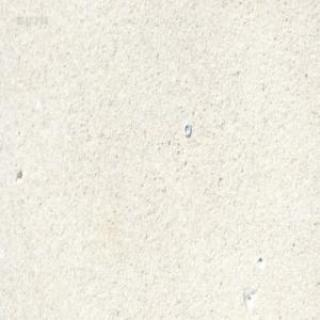Washertrack_idkeyframe: (174, 111, 204, 149)
